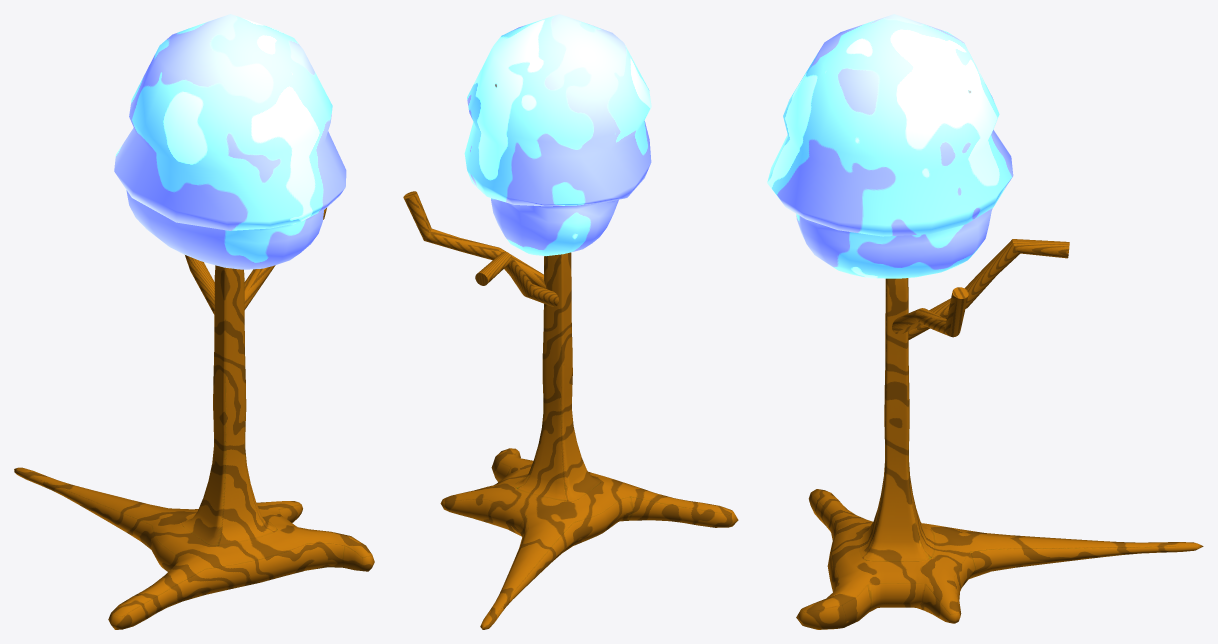
Rendered from tree2.fbx.
The picture shows the model from 3 angles, left to right: view 1: azimuth 30°, elevation 25°; view 2: azimuth 150°, elevation 25°; view 3: azimuth 270°, elevation 25°; orthographic projection. The views are drawn at different scales.
Parts seen in each view (by area): view 1: Sphere.001, Plane, Cylinder, Cylinder.001; view 2: Sphere.001, Plane, Cylinder.001, Cylinder; view 3: Sphere.001, Plane, Cylinder, Cylinder.001.
Boxes of the visible parts, x1=… form: Sphere.001: x1=114, y1=14, x2=346, y2=269; Plane: x1=14, y1=265, x2=374, y2=629; Cylinder: x1=185, y1=255, x2=214, y2=314; Cylinder.001: x1=244, y1=208, x2=326, y2=309; Sphere.001: x1=464, y1=14, x2=651, y2=256; Plane: x1=440, y1=252, x2=738, y2=629; Cylinder.001: x1=403, y1=191, x2=546, y2=288; Cylinder: x1=475, y1=251, x2=558, y2=306; Sphere.001: x1=767, y1=14, x2=1013, y2=278; Plane: x1=796, y1=278, x2=1203, y2=629; Cylinder: x1=908, y1=239, x2=1069, y2=339; Cylinder.001: x1=892, y1=287, x2=968, y2=337.
Bounding box in the file's own units: 453 × 810 × 561.
Materials: 3 (2 with a texture image).
